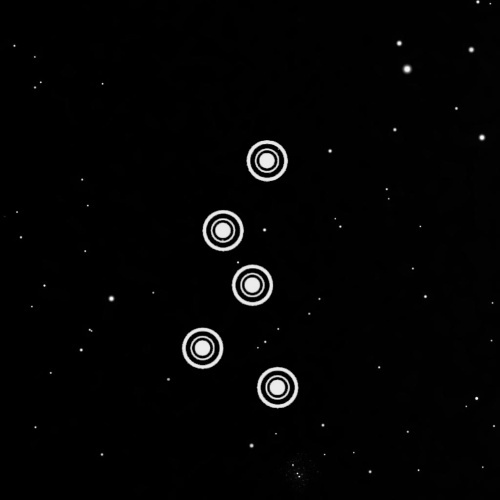cassiopeia: (176, 130, 313, 419)
